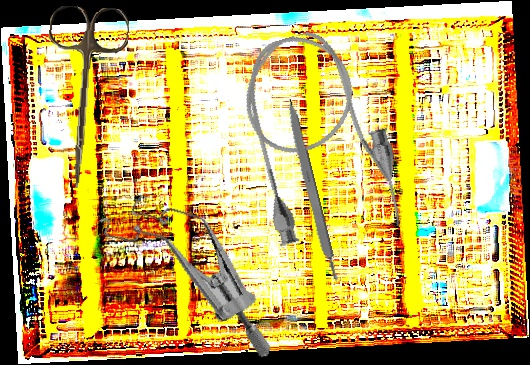Cannula: (225, 18, 414, 259)
Iris Scissors: (41, 5, 130, 190)
Scalpel Handle: (281, 96, 341, 285)
Speculum: (74, 183, 304, 360)
